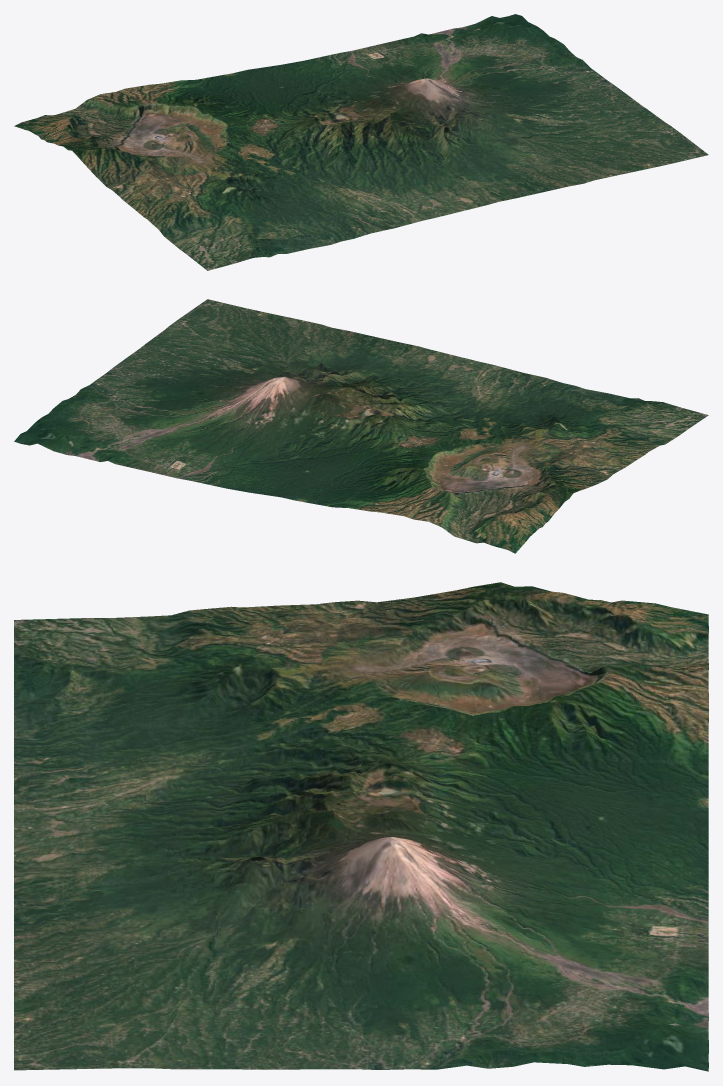
Rendered from mount-semeru.glb.
3 views of the same model, one above another, from view 1: azimuth 30°, elevation 25°; view 2: azimuth 150°, elevation 25°; view 3: azimuth 270°, elevation 25° (orthographic). The views are drawn at different scales.
Visible parts, largest first — view 1: EXPORT_GOOGLE_SAT_WM; view 2: EXPORT_GOOGLE_SAT_WM; view 3: EXPORT_GOOGLE_SAT_WM.
Part boxes in pixels (x1,y1,x2,y2): EXPORT_GOOGLE_SAT_WM: (14,14,708,270); EXPORT_GOOGLE_SAT_WM: (14,299,708,553); EXPORT_GOOGLE_SAT_WM: (14,582,708,1071).
Bounding box in the file's own units: 4.35 × 0.3614 × 2.91.
1 material, 1 textured.
